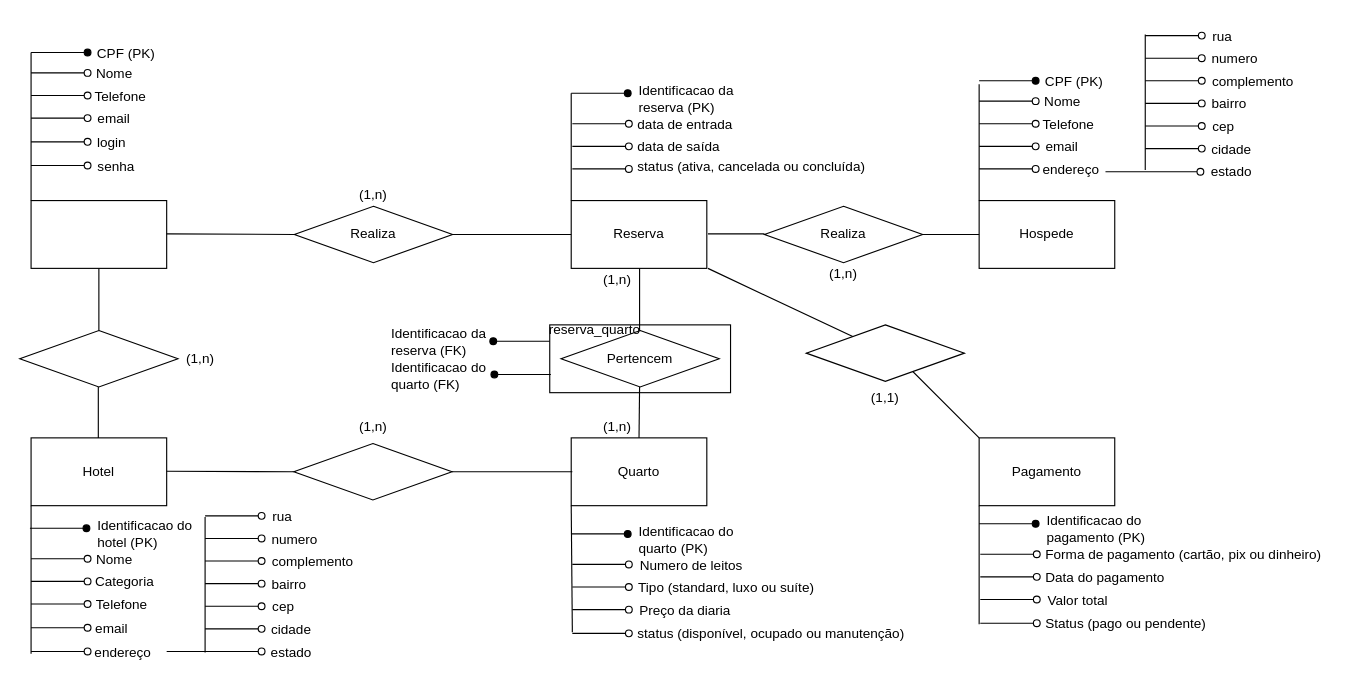
The diagram is 1346 pixels wide and 688 high, and some of its shapes have lost their labels. The shapes that lost their labels are listed below. From the top down, each one's centre as x and y in pixels, then its label:
At pixel 98 233: "Funcionario".
At pixel 98 358: "Trabalha".
At pixel 884 352: "Gera".
At pixel 372 471: "Possui".
